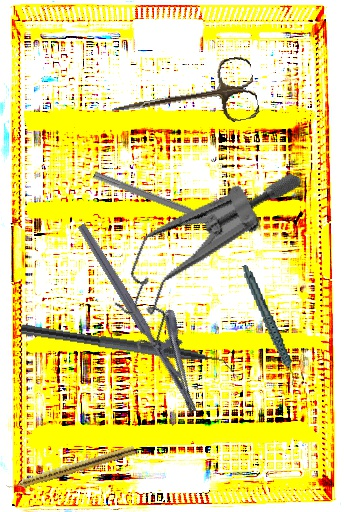Chopper: (18, 323, 242, 381)
Fixation Ring: (88, 167, 231, 241)
Handpiece: (241, 260, 297, 390), (5, 442, 136, 494)
Iris Scissors: (106, 54, 261, 145)
Needle Holder: (76, 207, 224, 415)
Speculum: (99, 130, 306, 383)
